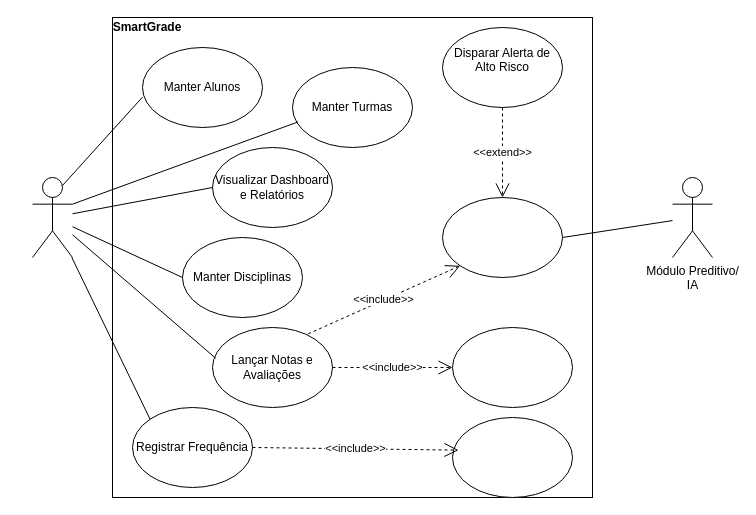
Image size: 756x515. Some labels were removed from this diagram. Each missing label, with the centre of its shape:
Calcular Média Ponderada: pixel 512 367
Calcular Percentual de Faltas: pixel 512 457
Processar Análise Preditiva de Risco: pixel 502 237
Professor/ Coordenador: pixel 52 217
